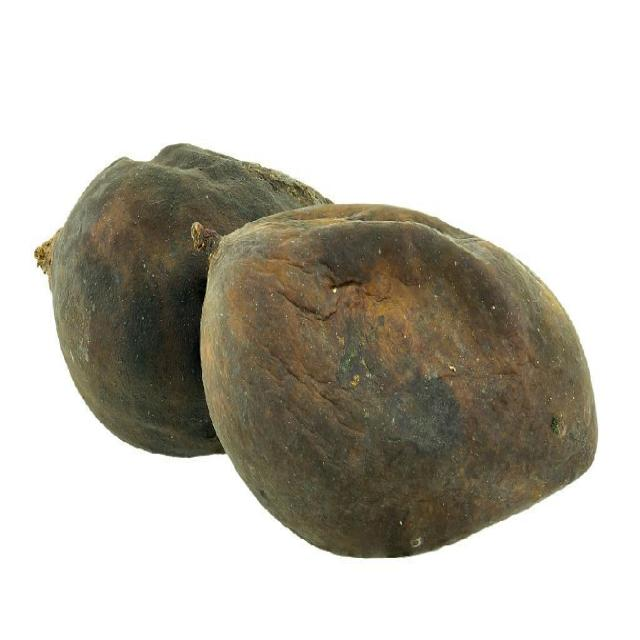organic: (36, 144, 600, 561)
